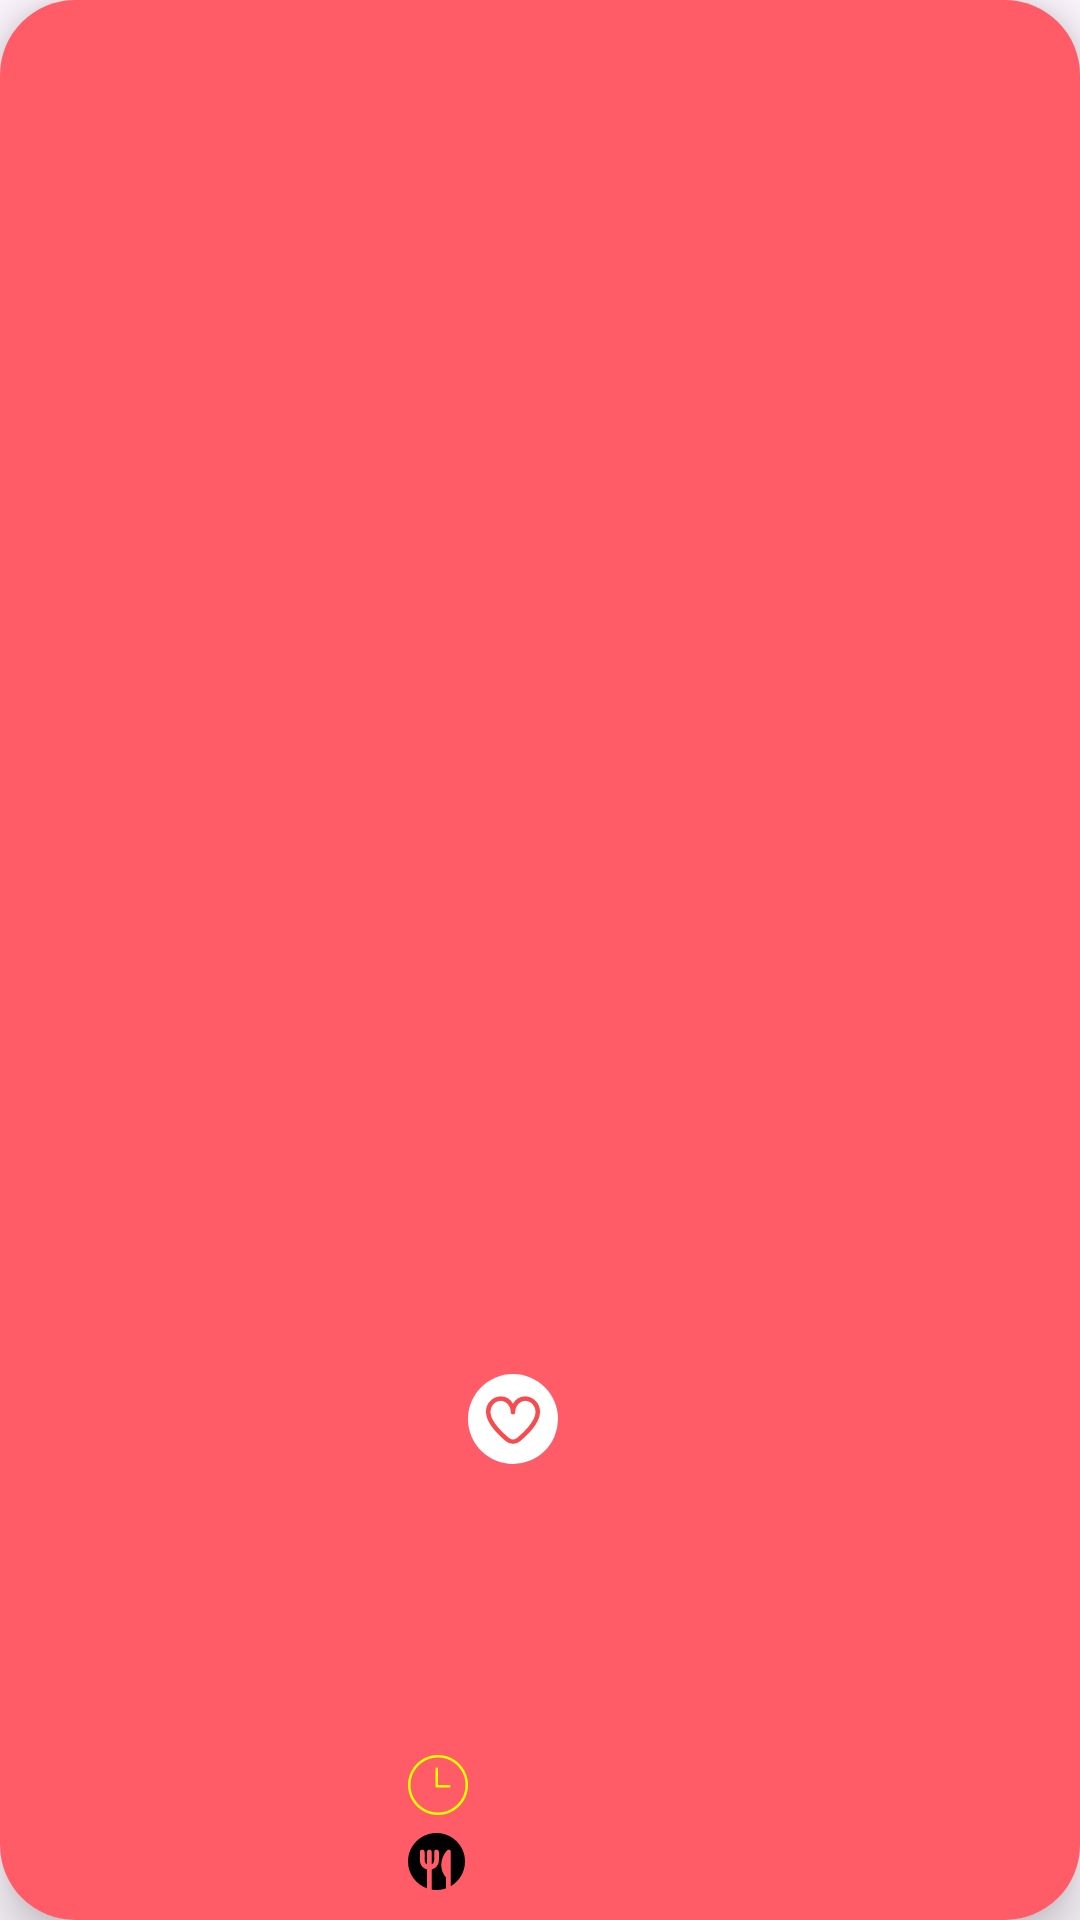

Locate icon controls on the screen. Image size 1080*1920, boxes as (x1, y1, x2, y2).
clock three: (408, 1755, 468, 1815)
heart: (468, 1374, 558, 1464)
plate eating: (408, 1833, 465, 1890)
